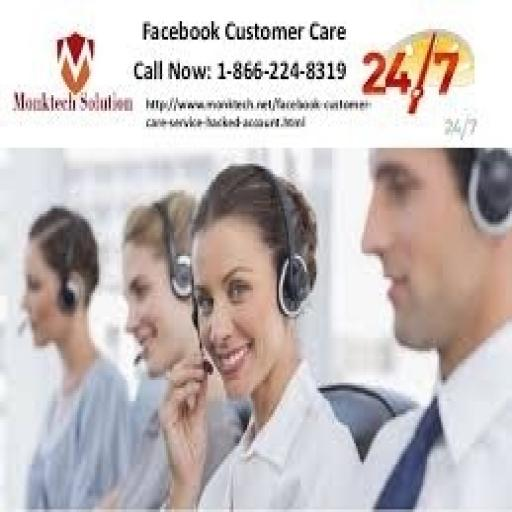calling: (176, 161, 364, 509), (356, 146, 510, 510), (91, 188, 249, 510), (14, 204, 132, 510)
